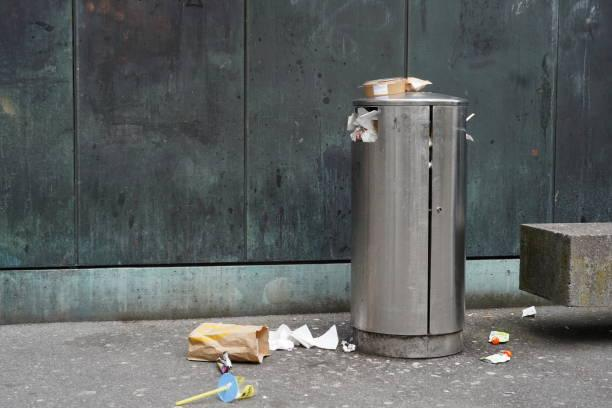trash: (180, 317, 343, 371), (172, 372, 261, 408), (358, 71, 440, 102), (349, 104, 387, 140), (483, 346, 511, 368), (491, 328, 508, 350)
trash_can_overflow: (309, 44, 485, 372)
